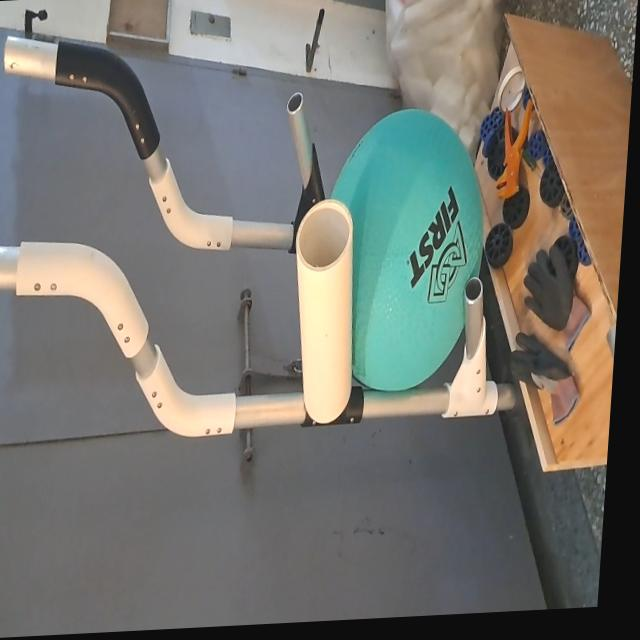ALGAE: (310, 100, 495, 402)
CORAL: (281, 185, 367, 435)
